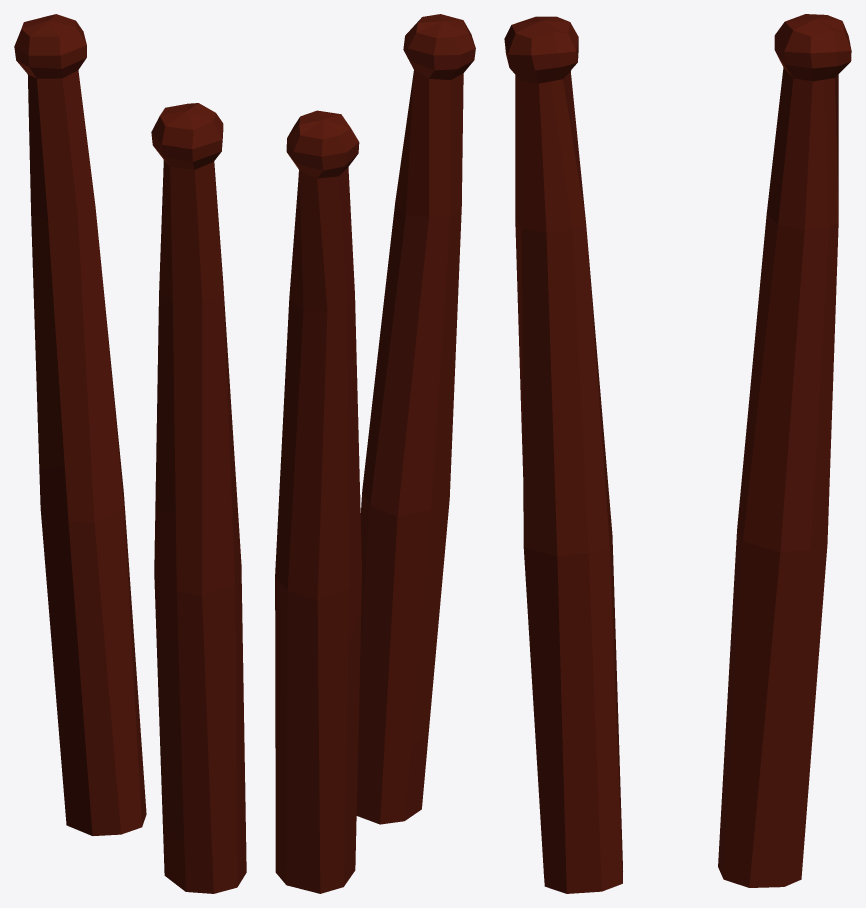
File: Bacchette_batteria.FBX
3 renders of one model, left to right at view 1: azimuth 30°, elevation 25°; view 2: azimuth 150°, elevation 25°; view 3: azimuth 270°, elevation 25°, orthographic. The views are drawn at different scales.
Visible parts, largest first — view 1: Drumstick_LP001, Drumstick_LP; view 2: Drumstick_LP, Drumstick_LP001; view 3: Drumstick_LP001, Drumstick_LP.
Part boxes in pixels (x1,y1,x2,y2): Drumstick_LP001: (14, 14, 146, 835); Drumstick_LP: (151, 103, 246, 893); Drumstick_LP: (356, 14, 475, 824); Drumstick_LP001: (275, 110, 361, 893); Drumstick_LP001: (718, 14, 851, 887); Drumstick_LP: (504, 16, 622, 893).
Size of the model in its own units: 0.0477 by 0.3278 by 0.1222.
